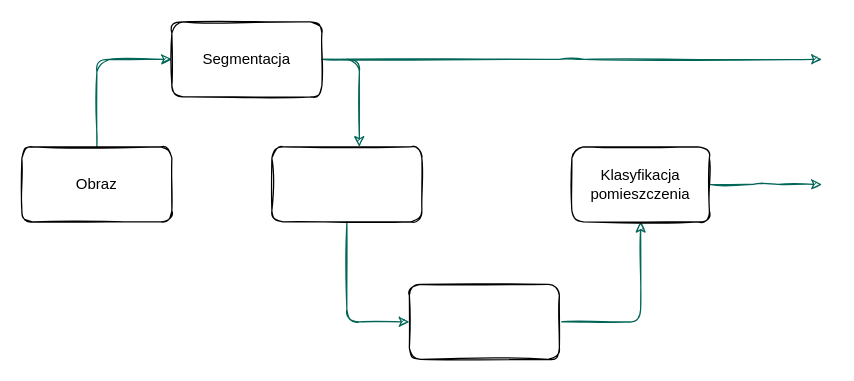
The diagram is 854 pixels wide and 381 high, and some of its shapes have lost their labels. Each missing label, with the centre of its shape:
Analiza udziału każdej z klas: point 346,184
Perceptron wielowarstwowy: point 483,321
